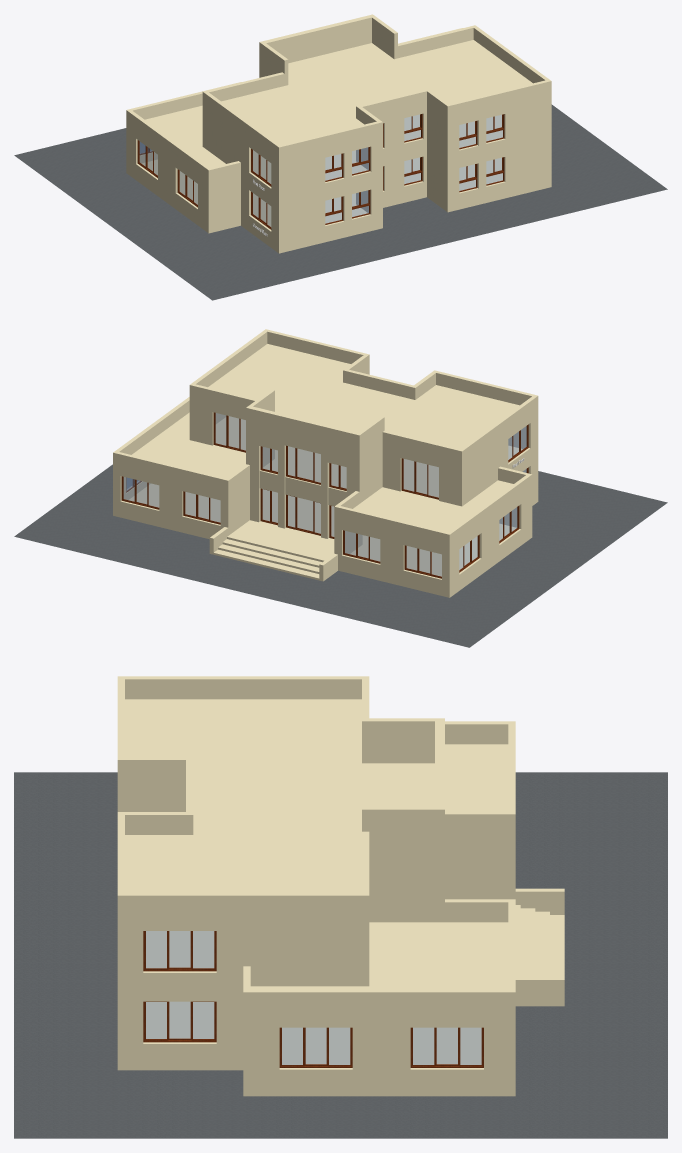
The picture shows the model from 3 angles, top to bottom: view 1: azimuth 30°, elevation 25°; view 2: azimuth 150°, elevation 25°; view 3: azimuth 270°, elevation 25°; orthographic projection. The views are drawn at different scales.
Parts seen in each view (by area): view 1: Root Node, GF (×2), FF#1 (×2), FF (×2), 36362, 31776, Component#4 (×10), Component#1, 31207, Component#2 (×4), 36359; view 2: Root Node, GF (×2), FF#1 (×2), FF (×2), 36362, Component#1 (×2), 31776, Component#2 (×7), 36359, 31207, Component#3 (×2), Component#7 (+2 smaller); view 3: Root Node, GF (×2), FF#1 (×2), 31776, FF (×2), 36362, Component#1 (×2), Component#2 (×4), 36359, 31207.
Boxes of the visible parts, <box> form: Root Node: <box>14,104,667,300</box>; GF (×2): <box>126,122,551,253</box>; FF#1 (×2): <box>202,14,551,159</box>; FF (×2): <box>202,68,551,202</box>; 36362: <box>319,40,532,103</box>; 31776: <box>221,56,379,144</box>; Component#4 (×10): <box>325,114,504,224</box>; Component#1: <box>126,82,241,182</box>; 31207: <box>145,105,367,183</box>; Component#2 (×4): <box>137,140,271,229</box>; 36359: <box>404,114,502,147</box>; Root Node: <box>14,464,667,647</box>; GF (×2): <box>113,451,538,597</box>; FF#1 (×2): <box>189,329,538,463</box>; FF (×2): <box>189,367,538,506</box>; 36362: <box>208,344,378,425</box>; Component#1 (×2): <box>113,397,532,546</box>; 31776: <box>332,385,519,448</box>; Component#2 (×7): <box>121,424,528,578</box>; 36359: <box>132,412,336,480</box>; 31207: <box>315,446,522,531</box>; Component#3 (×2): <box>213,412,438,499</box>; Component#7: <box>286,494,320,535</box>; Root Node: <box>14,772,667,1138</box>; GF (×2): <box>117,834,564,1096</box>; FF#1 (×2): <box>117,676,444,915</box>; 31776: <box>125,699,434,805</box>; FF (×2): <box>117,780,444,986</box>; 36362: <box>125,806,434,892</box>; Component#1 (×2): <box>243,721,515,1011</box>; Component#2 (×4): <box>143,931,483,1067</box>; 36359: <box>146,922,508,988</box>; 31207: <box>445,744,508,810</box>.
Bounding box in the file's own units: 35.51 × 8.9 × 26.79.
Materials: 1228 (235 with a texture image).
